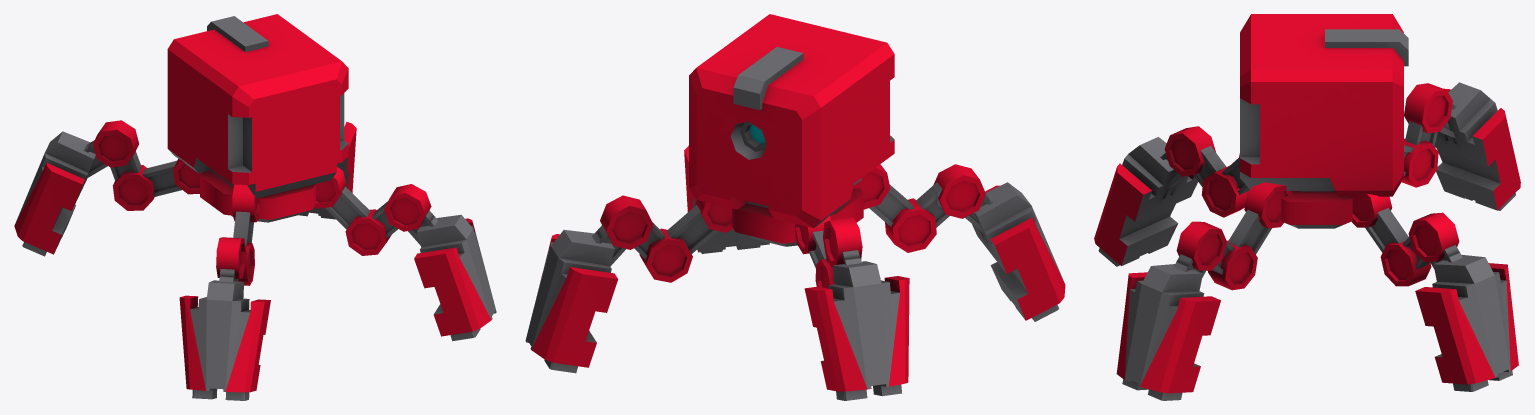
File: Monster1_Move5.obj
3 renders of one model, left to right at view 1: azimuth 30°, elevation 25°; view 2: azimuth 150°, elevation 25°; view 3: azimuth 270°, elevation 25°, orthographic. The views are drawn at different scales.
Visible parts, largest first — view 1: Box006, Object021, Object017, Object025, Object028, Object020, Object027, Object018, Object019, Object026, Object022, Object024 (+2 smaller); view 2: Box006, Object025, Object013, Object021, Object016, Object023, Object024, Object015, Object014, Object022, Object028, Object017 (+1 smaller); view 3: Box006, Object013, Object017, Object021, Object025, Object018, Object020, Object016, Object023, Object014, Object028, Object024 (+3 smaller).
Boxes of the visible parts, x1=… form: Box006: x1=167, y1=14, x2=348, y2=222; Object021: x1=179, y1=280, x2=270, y2=400; Object017: x1=414, y1=214, x2=496, y2=341; Object025: x1=14, y1=131, x2=95, y2=256; Object028: x1=84, y1=120, x2=138, y2=178; Object020: x1=384, y1=184, x2=437, y2=245; Object027: x1=110, y1=151, x2=154, y2=210; Object018: x1=314, y1=167, x2=370, y2=229; Object019: x1=345, y1=201, x2=397, y2=255; Object026: x1=142, y1=159, x2=211, y2=196; Object022: x1=232, y1=184, x2=259, y2=245; Object024: x1=216, y1=237, x2=245, y2=282; Box006: x1=689, y1=14, x2=894, y2=246; Object025: x1=804, y1=261, x2=909, y2=400; Object013: x1=525, y1=229, x2=618, y2=373; Object021: x1=972, y1=182, x2=1065, y2=321; Object016: x1=592, y1=195, x2=653, y2=266; Object023: x1=885, y1=182, x2=949, y2=252; Object024: x1=933, y1=164, x2=993, y2=232; Object015: x1=634, y1=222, x2=692, y2=282; Object014: x1=666, y1=200, x2=733, y2=253; Object022: x1=853, y1=164, x2=914, y2=226; Object028: x1=823, y1=217, x2=862, y2=267; Object017: x1=684, y1=145, x2=769, y2=253; Box006: x1=1240, y1=14, x2=1408, y2=228; Object013: x1=1415, y1=254, x2=1518, y2=391; Object017: x1=1116, y1=264, x2=1220, y2=400; Object021: x1=1094, y1=137, x2=1197, y2=266; Object025: x1=1434, y1=82, x2=1520, y2=210; Object018: x1=1228, y1=182, x2=1292, y2=254; Object020: x1=1174, y1=221, x2=1226, y2=277; Object016: x1=1408, y1=212, x2=1462, y2=268; Object023: x1=1193, y1=146, x2=1248, y2=217; Object014: x1=1349, y1=194, x2=1408, y2=252; Object028: x1=1404, y1=83, x2=1456, y2=137; Object024: x1=1160, y1=126, x2=1215, y2=188.
Size of the model in its own units: 151 by 114 by 154.
